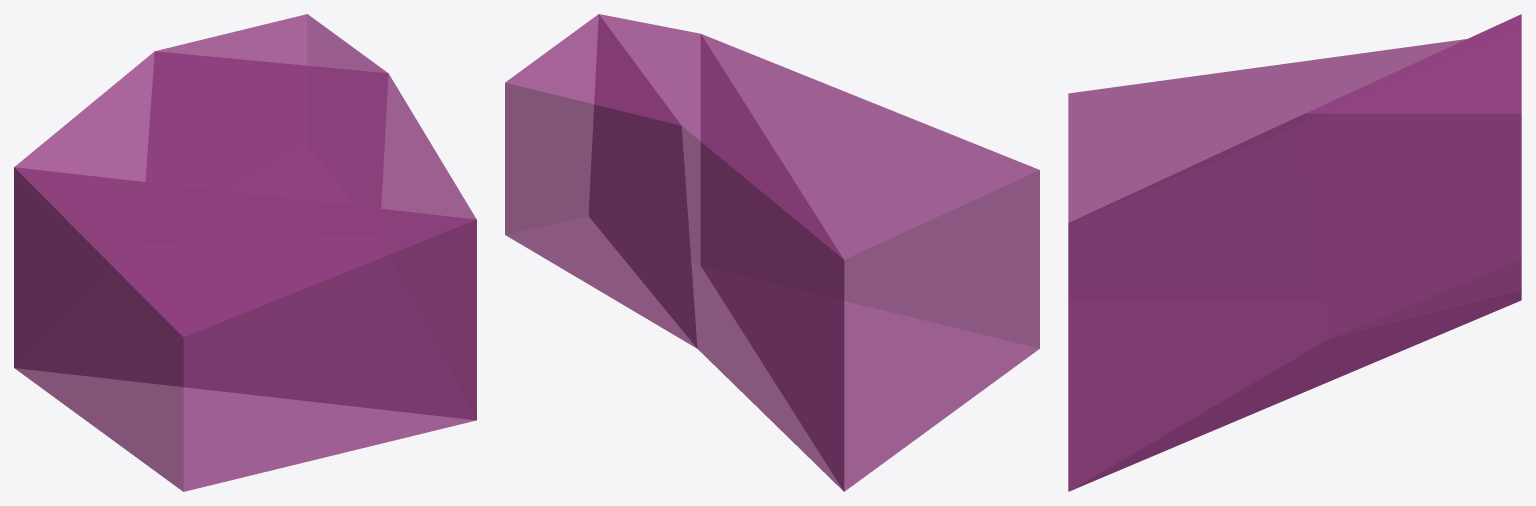
File: SM_Bld_Roof_Corner_Small_01_Collision_01.fbx
3 views of the same model, side by side, from view 1: azimuth 30°, elevation 25°; view 2: azimuth 150°, elevation 25°; view 3: azimuth 270°, elevation 25° (orthographic). The views are drawn at different scales.
Parts seen in each view (by area): view 1: SM_Bld_Roof_Corner_Small_01_Collision_01; view 2: SM_Bld_Roof_Corner_Small_01_Collision_01; view 3: SM_Bld_Roof_Corner_Small_01_Collision_01.
Part boxes in pixels (x1,y1,x2,y2): SM_Bld_Roof_Corner_Small_01_Collision_01: [14, 14, 476, 491]; SM_Bld_Roof_Corner_Small_01_Collision_01: [505, 14, 1039, 491]; SM_Bld_Roof_Corner_Small_01_Collision_01: [1068, 14, 1521, 491].
Bounding box in the file's own units: 138 × 127 × 138.
